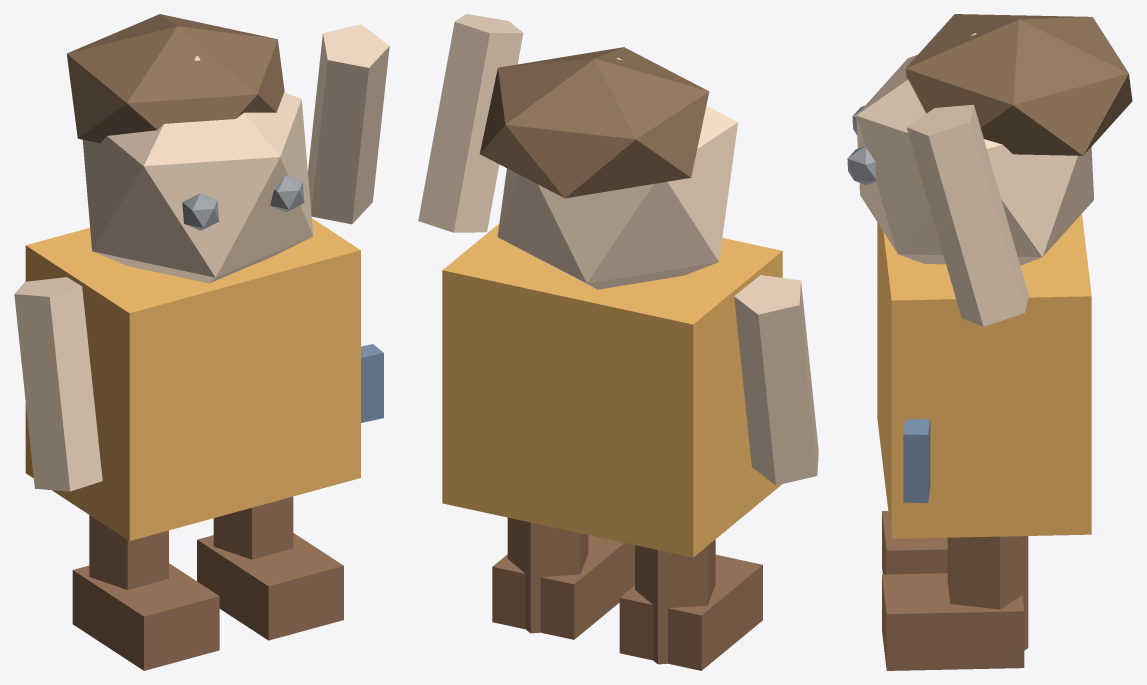
The model's file is npcpose_villager_wave_07.glb.
3 views of the same model, side by side, from view 1: azimuth 30°, elevation 25°; view 2: azimuth 150°, elevation 25°; view 3: azimuth 270°, elevation 25° (orthographic). The views are drawn at different scales.
Visible parts, largest first — view 1: npcpose; view 2: npcpose; view 3: npcpose.
Boxes of the visible parts, bbox=[...] form: npcpose: bbox=[14, 14, 389, 670]; npcpose: bbox=[418, 14, 818, 670]; npcpose: bbox=[847, 14, 1132, 670].
Size of the model in its own units: 0.6944 by 1.06 by 0.4552.
